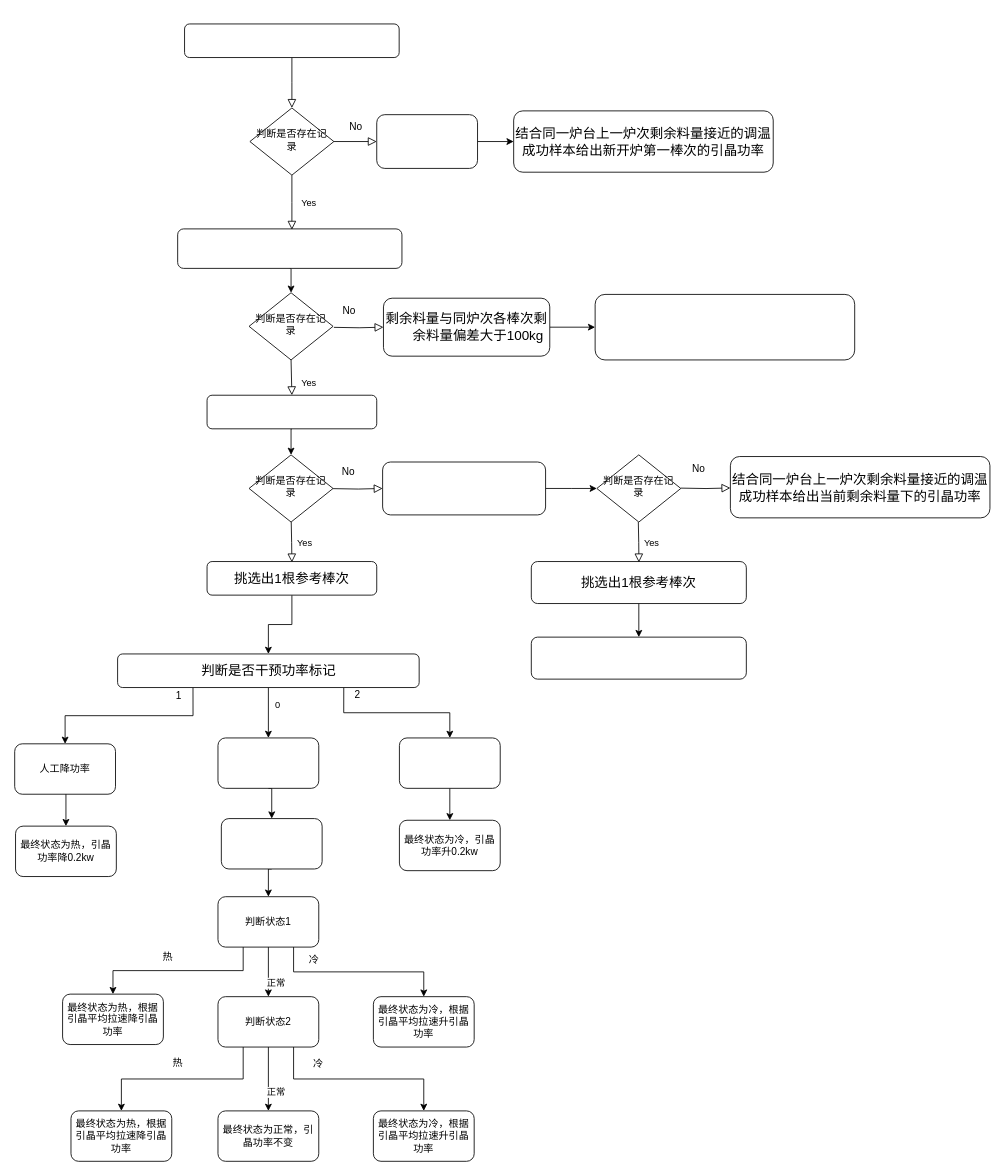
Some shapes in this 1005 by 1176 pixel diagram are drawn without their labels. Each missing label, with the centre of its shape:
"人工升功率" goes at point (449, 762).
"挑选出进入等径阶段的棒次" goes at point (291, 411).
"挑选放断棒次" goes at point (464, 488).
"无人工干预" goes at point (268, 762).
"查询同一炉台同一炉次的所有棒次记录" goes at point (291, 40).
"查询当前剩余料量偏差值100kg内的所有棒次" goes at point (289, 248).
"根据放肩时长得到状态1，根据引晶平均拉速得到状态2" goes at point (271, 843).
"结合同一炉台上一炉次剩余料量接近的调温成功样本给出当前剩余料量下的引晶功率；" goes at point (724, 327).
"结合引晶平均拉速来给出 引晶功率" goes at point (638, 657).
"该棒次为首棒" goes at point (427, 141).
